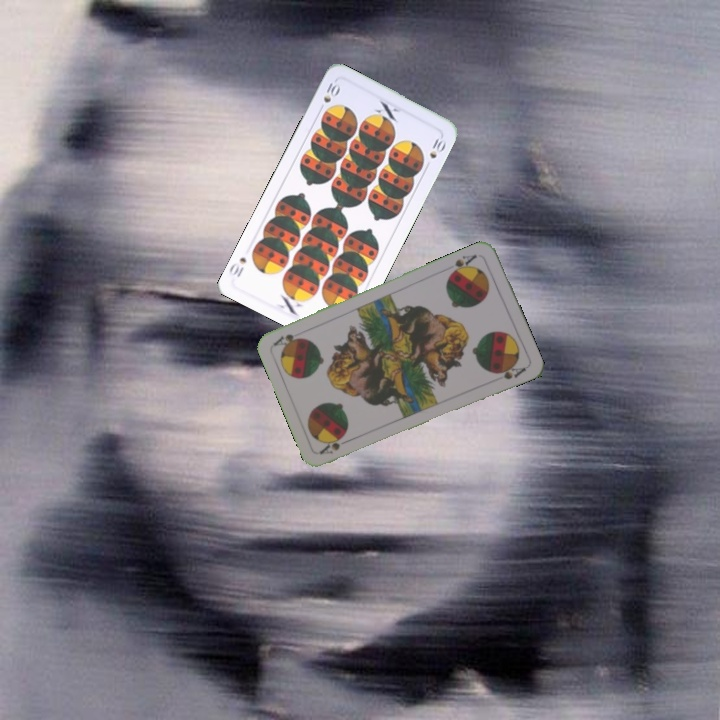S10: (315, 77, 343, 114)
SA: (316, 432, 354, 457), (446, 250, 479, 278)
